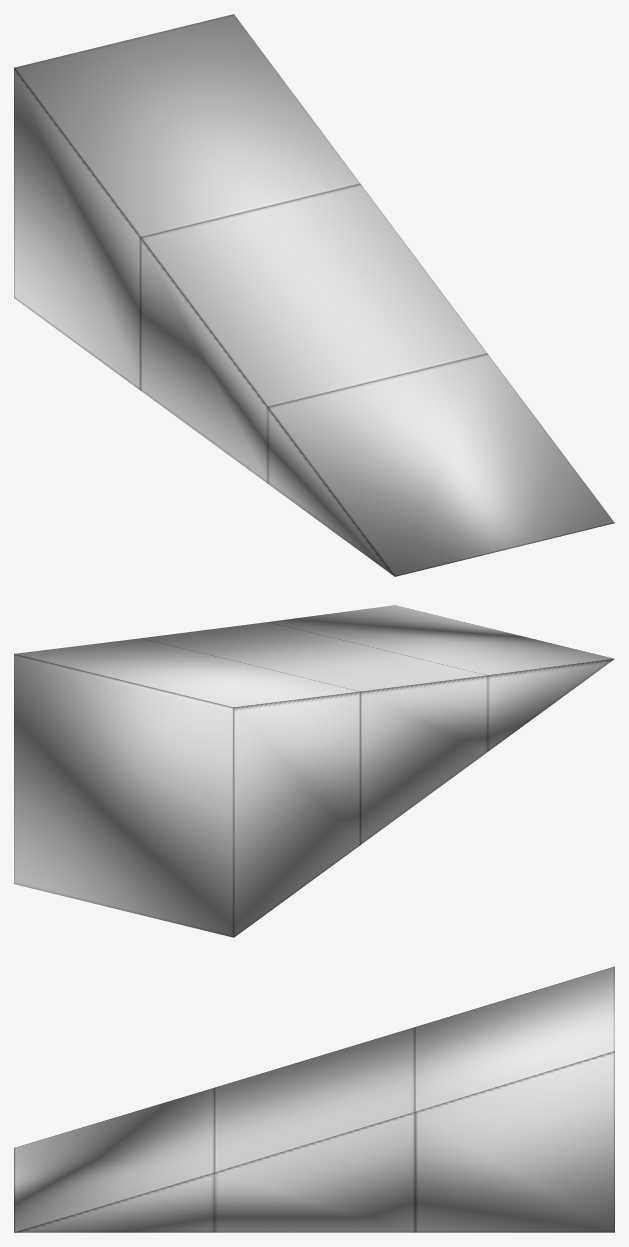
Rendered from Ramp-04.fbx.
3 renders of one model, top to bottom at view 1: azimuth 30°, elevation 25°; view 2: azimuth 150°, elevation 25°; view 3: azimuth 270°, elevation 25°, orthographic. The views are drawn at different scales.
Parts seen in each view (by area): view 1: Ramp-04; view 2: Ramp-04; view 3: Ramp-04.
Part boxes in pixels (left/top/right/bottom): Ramp-04: left=14, top=14, right=614, bottom=576; Ramp-04: left=14, top=605, right=614, bottom=937; Ramp-04: left=14, top=966, right=614, bottom=1232.
Bounding box in the file's own units: 1 × 1 × 3.
